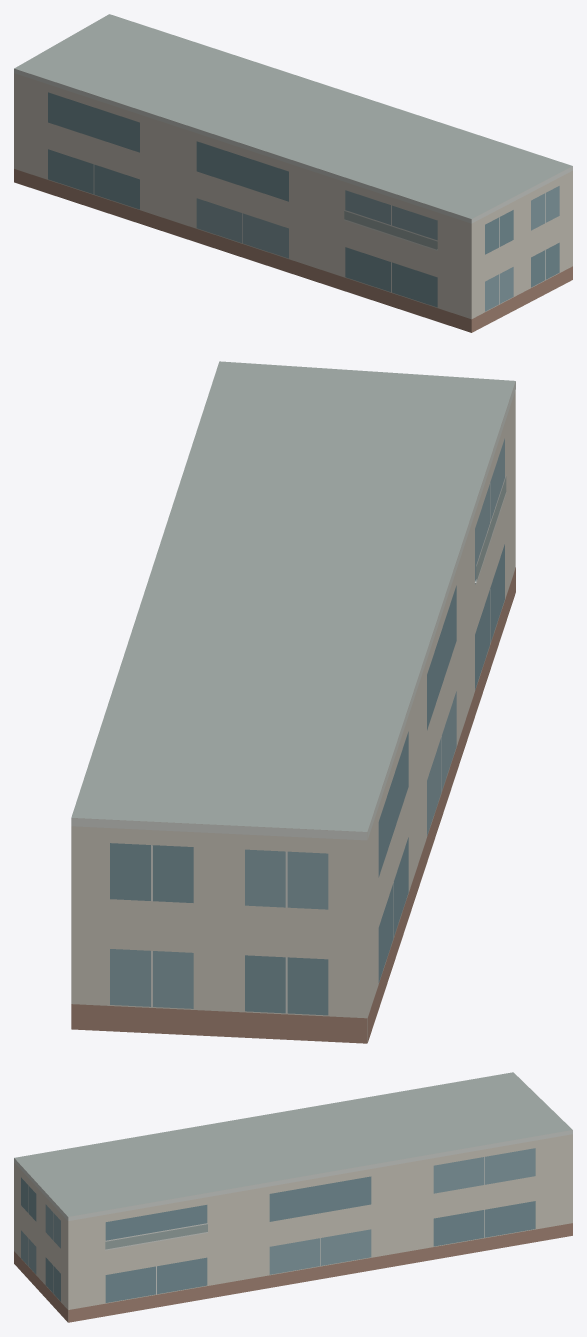
Rendered from survey-upis-32593826.glb.
The picture shows the model from 3 angles, top to bottom: view 1: azimuth 30°, elevation 25°; view 2: azimuth 150°, elevation 25°; view 3: azimuth 270°, elevation 25°; orthographic projection. The views are drawn at different scales.
Parts seen in each view (by area): view 1: survey-upis-32593826.tmp; view 2: survey-upis-32593826.tmp; view 3: survey-upis-32593826.tmp.
Part boxes in pixels (left/top/right/bottom): survey-upis-32593826.tmp: left=14, top=14, right=572, bottom=332; survey-upis-32593826.tmp: left=71, top=361, right=515, bottom=1043; survey-upis-32593826.tmp: left=14, top=1072, right=572, bottom=1322.
Size of the model in its own units: 17.92 by 6.1 by 29.22.
